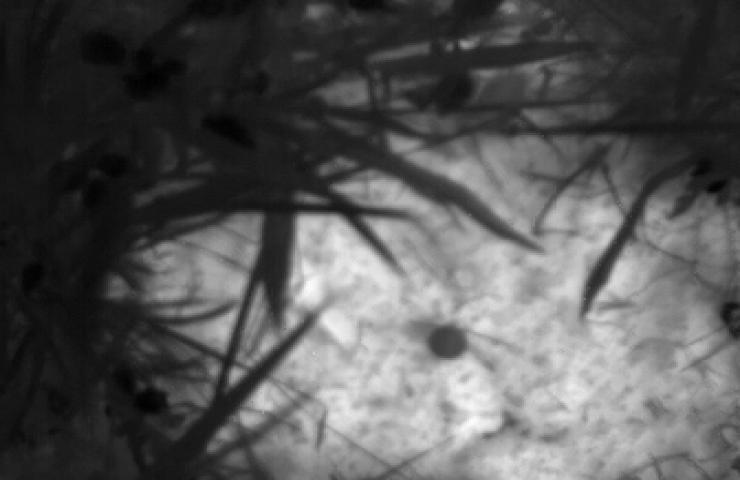landmines: (136, 126, 740, 480)
